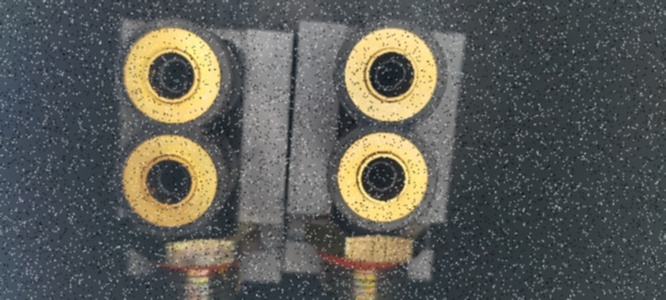off-centered: (367, 54, 413, 98), (151, 56, 195, 95)
